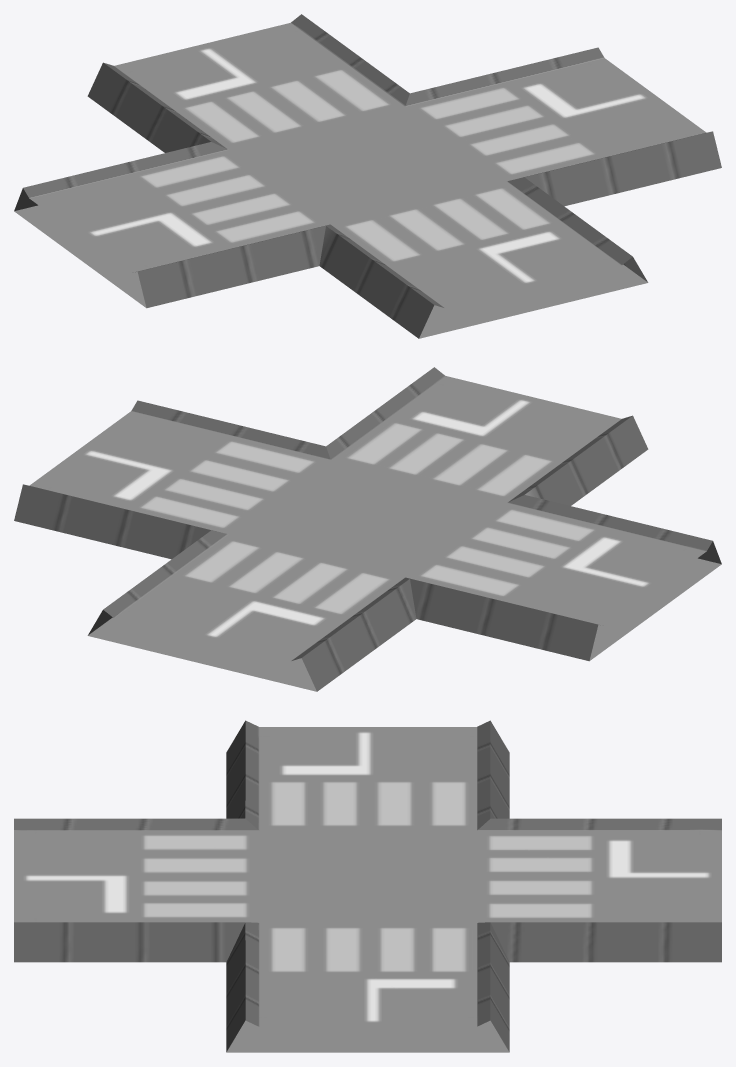
File: co_Street_Asphalted_B_Cross.fbx
3 renders of one model, top to bottom at view 1: azimuth 30°, elevation 25°; view 2: azimuth 150°, elevation 25°; view 3: azimuth 270°, elevation 25°, orthographic. The views are drawn at different scales.
Visible parts, largest first — view 1: Street_Asphalted_B_Cross; view 2: Street_Asphalted_B_Cross; view 3: Street_Asphalted_B_Cross.
Part boxes in pixels (<box>): Street_Asphalted_B_Cross: <box>14,14,721,338</box>; Street_Asphalted_B_Cross: <box>14,367,721,691</box>; Street_Asphalted_B_Cross: <box>14,720,721,1052</box>.
Bounding box in the file's own units: 2507 × 125 × 2500.
